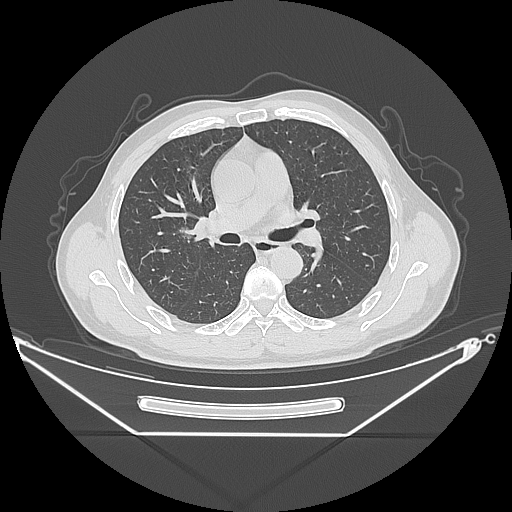nodule: (177, 226, 193, 238)
